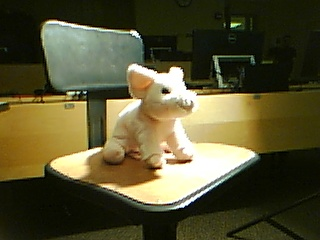piggy: (101, 62, 198, 170)
